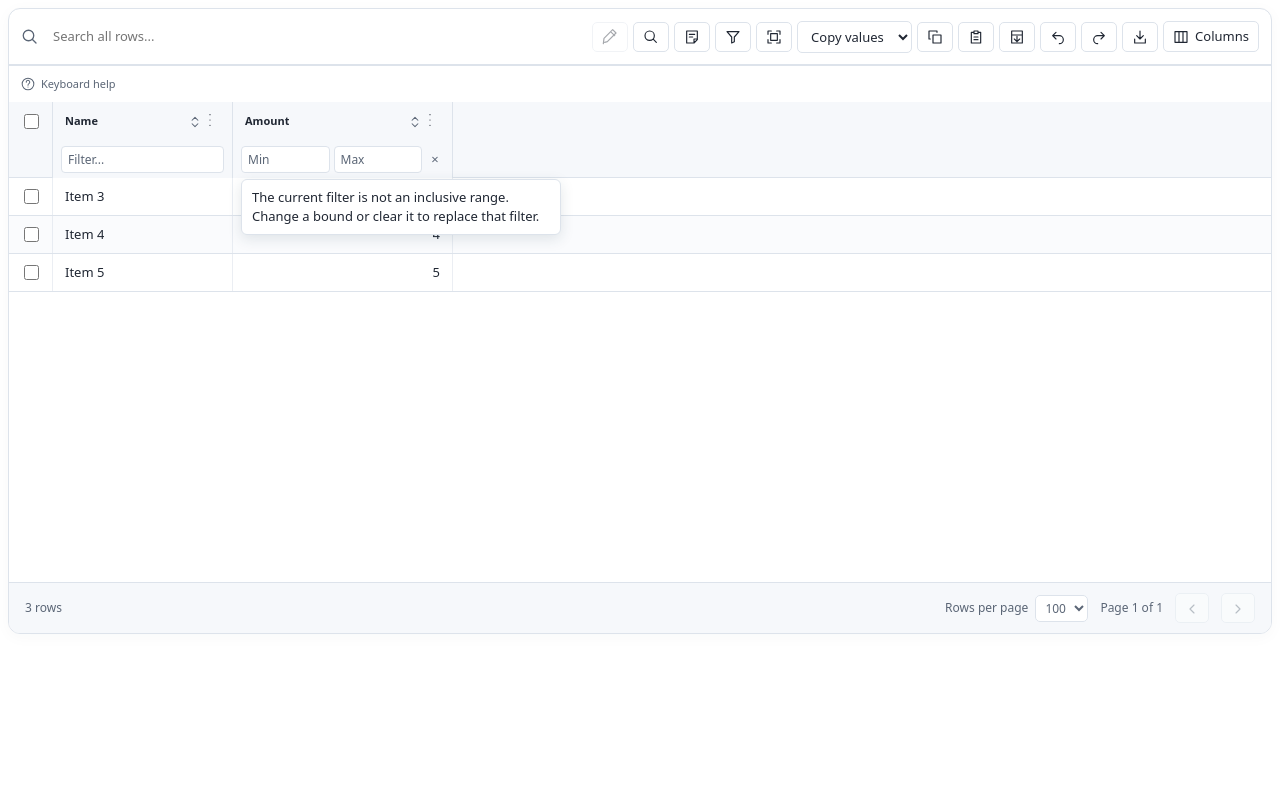
Test case: controlled inclusive range filter › reports unsupported external operators instead of silently clearing them
The width and height of the screenshot is (1280, 800).
expect the message shows "not an inclusive range": met, box 252,188 -> 539,225
Type "3" into the field named "Filter Amount minimum". click: (285, 159)
box: 241,146 -> 330,172
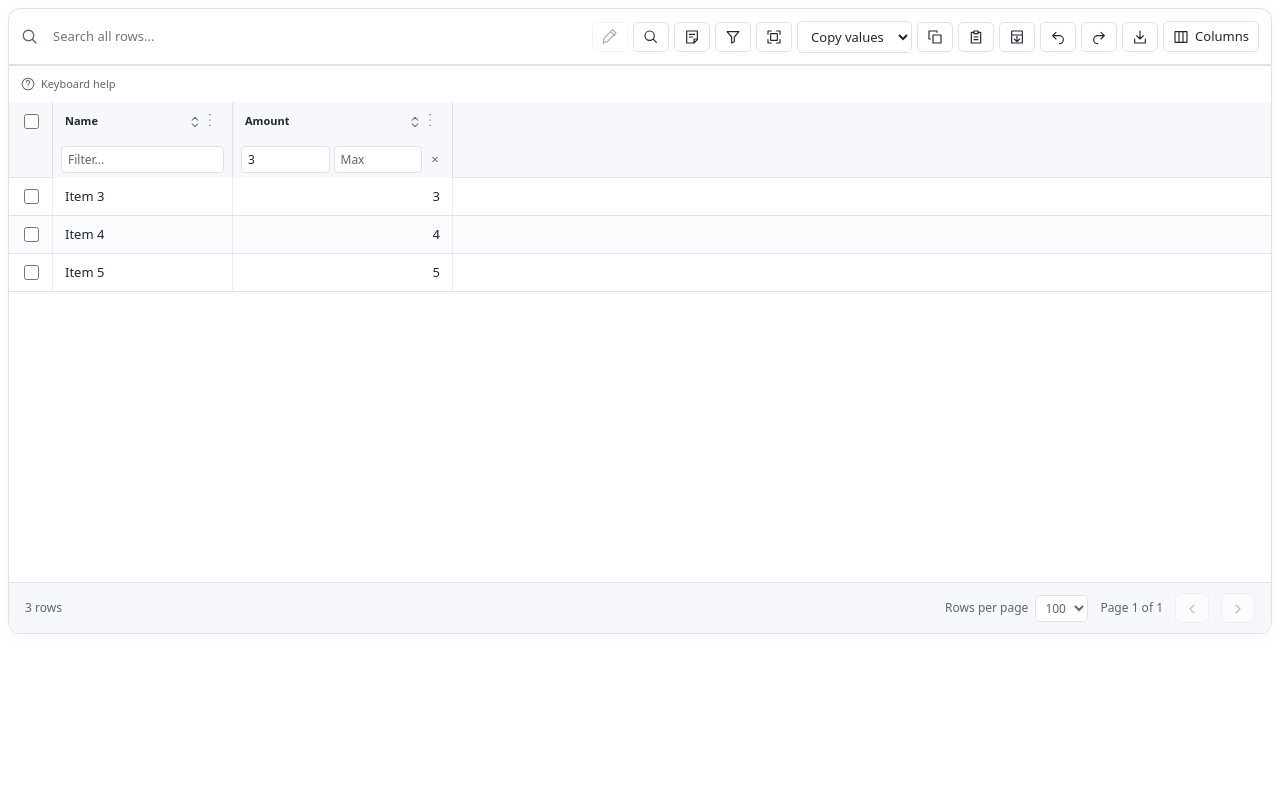
expect the message is gone: met
